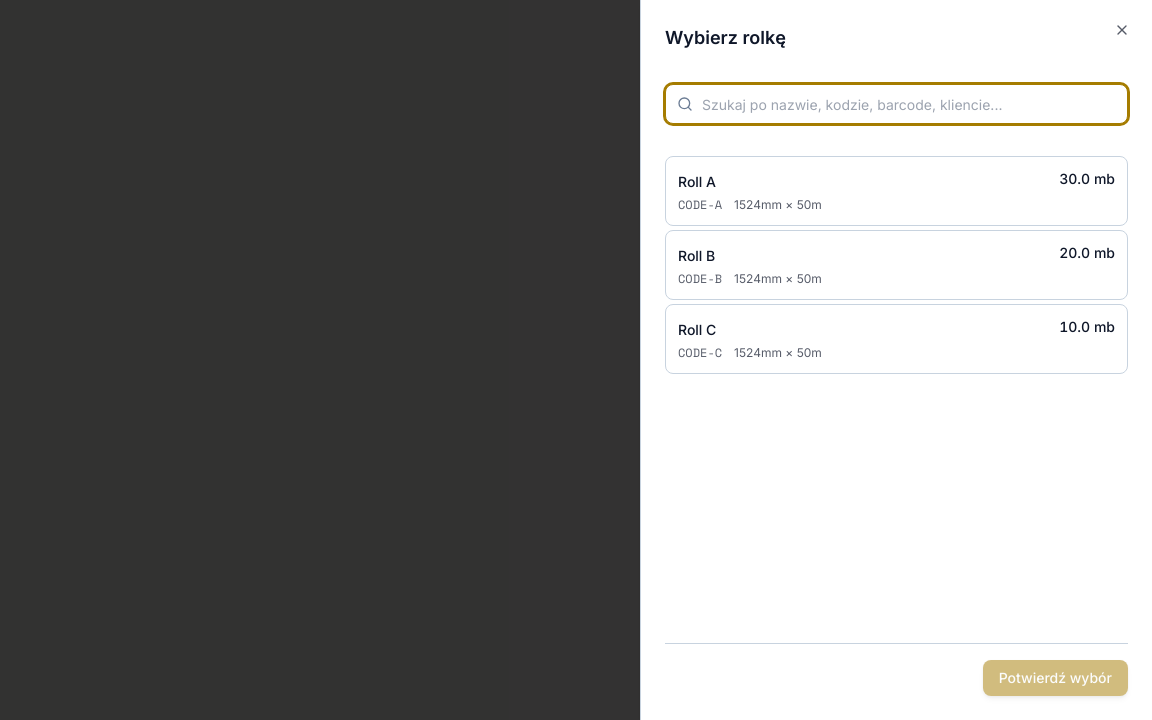
Test: RollSelectDrawer › Selection toggling › shows checkmark when a roll is clicked
Check: the text "Roll A" is shown, box [678,173,716,190]
Click the button "Roll A CODE-A 1524mm × 50m 30.0 mb". click: (697, 182)
box: [665,156,1128,226]
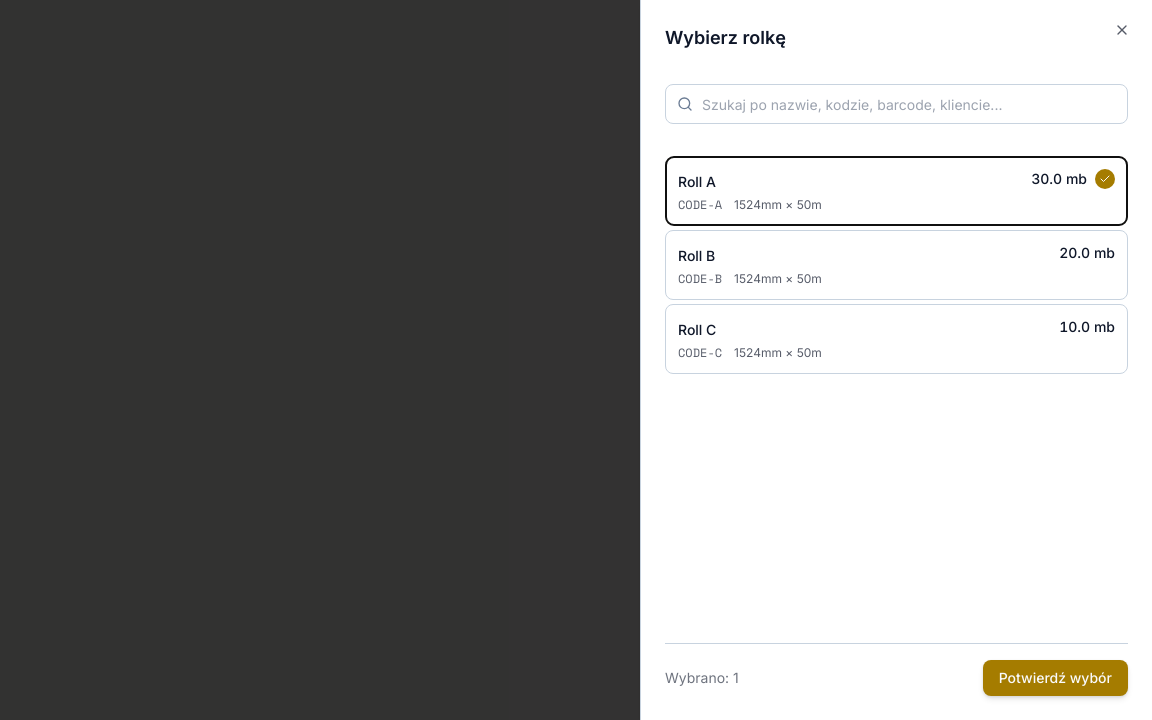
Check: the text "Wybrano: 1" is shown, box [665,668,739,688]
